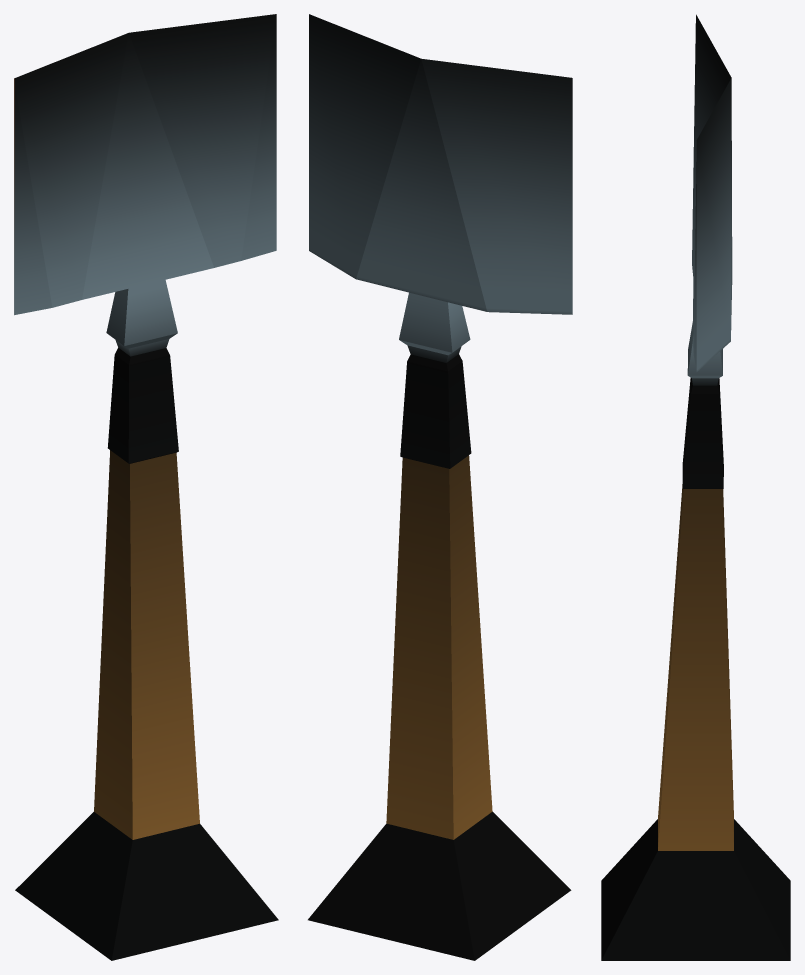
File: Shovel.glb
The picture shows the model from 3 angles, left to right: view 1: azimuth 30°, elevation 25°; view 2: azimuth 150°, elevation 25°; view 3: azimuth 270°, elevation 25°; orthographic projection.
Parts seen in each view (by area): view 1: Head, Stem, Root; view 2: Head, Stem, Root; view 3: Stem, Root, Head.
Boxes of the visible parts, box(x1,y1,x2,y2) form: Head: box(14, 14, 276, 315); Stem: box(94, 280, 199, 839); Root: box(15, 812, 278, 960); Head: box(309, 14, 572, 314); Stem: box(386, 292, 492, 839); Root: box(308, 811, 571, 960); Stem: box(658, 321, 733, 850); Root: box(601, 819, 790, 960); Head: box(692, 14, 732, 371).
Size of the model in its own units: 1.03 by 3.23 by 0.6577.
1 material, 1 textured.
